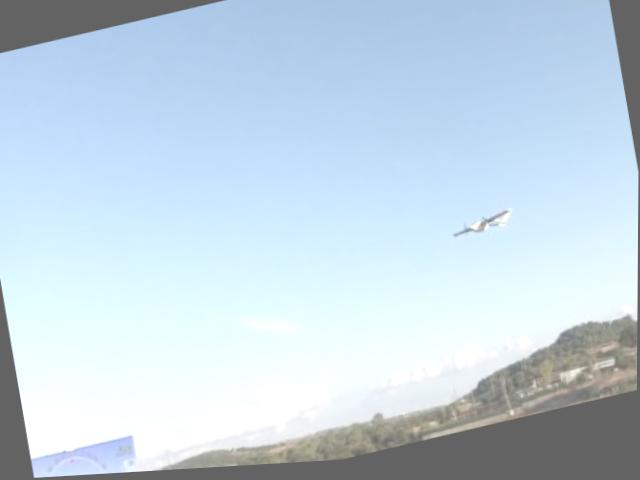uav: (445, 207, 519, 251)
